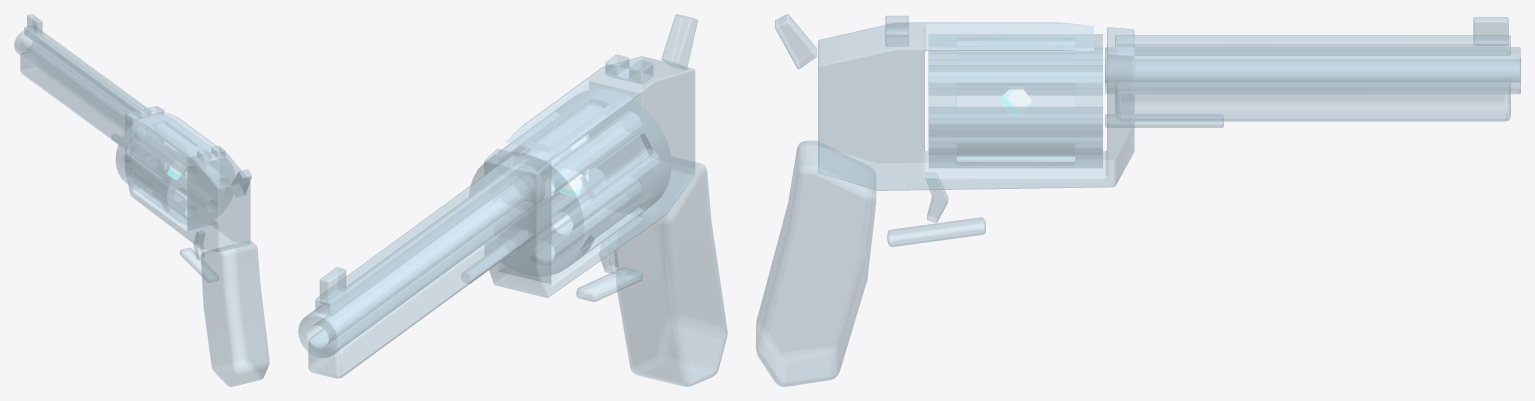
The model's file is glasscannon.glb.
3 renders of one model, left to right at view 1: azimuth 30°, elevation 25°; view 2: azimuth 150°, elevation 25°; view 3: azimuth 270°, elevation 25°, orthographic. The views are drawn at different scales.
Visible parts, largest first — view 1: frame, cylinder, grip, barrel, lug, rib, tguard, hammer, rear_sight, front_sight, trigger, crystal_core; view 2: frame, cylinder, grip, barrel, lug, rib, hammer, tguard, rear_sight, front_sight, ejector_rod, trigger (+1 smaller); view 3: frame, cylinder, grip, barrel, lug, rib, tguard, ejector_rod, hammer, front_sight, rear_sight, trigger (+1 smaller).
Boxes of the visible parts, x1,y1,x2,y2 form: frame: (125, 106, 250, 251); cylinder: (115, 114, 235, 225); grip: (200, 241, 269, 386); barrel: (14, 30, 158, 137); lug: (20, 52, 124, 148); rib: (24, 25, 150, 118); tguard: (179, 247, 218, 282); hammer: (230, 169, 251, 197); rear_sight: (197, 145, 225, 162); front_sight: (27, 14, 42, 36); trigger: (193, 231, 205, 259); crystal_core: (167, 161, 184, 179); frame: (484, 56, 695, 297); cylinder: (469, 89, 671, 276); grip: (614, 156, 727, 386); barrel: (298, 165, 544, 357); lug: (308, 201, 534, 378); rib: (315, 155, 527, 315); hammer: (661, 14, 697, 69); tguard: (576, 267, 642, 301); rear_sight: (605, 54, 653, 83); front_sight: (319, 267, 346, 305); ejector_rod: (461, 239, 513, 283); trigger: (599, 231, 618, 274); frame: (818, 22, 1134, 190); cylinder: (928, 34, 1102, 168); grip: (756, 140, 876, 386); barrel: (1105, 47, 1520, 94); lug: (1115, 82, 1510, 121); rib: (1115, 35, 1510, 55); tguard: (887, 217, 985, 246); ejector_rod: (1105, 114, 1223, 127); hammer: (775, 14, 816, 69); front_sight: (1473, 17, 1508, 45); rear_sight: (885, 15, 908, 46); trigger: (925, 173, 948, 222).
Size of the model in its own units: 0.068 by 0.199 by 0.3862.
